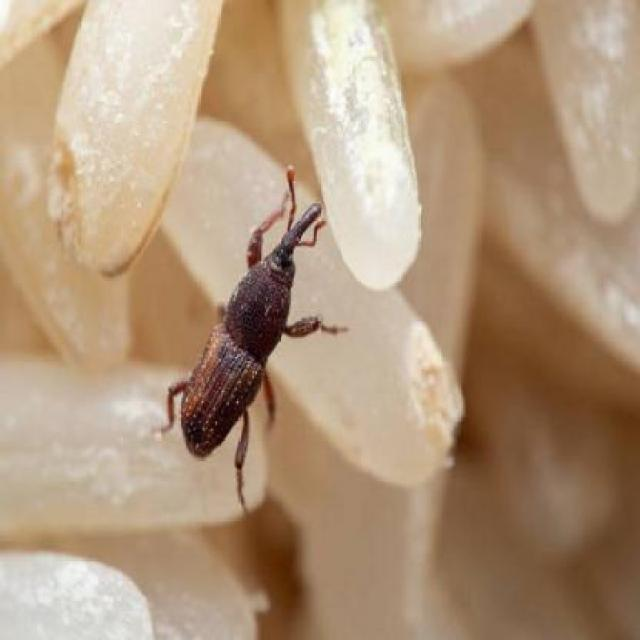rice-bug: (178, 186, 340, 468)
